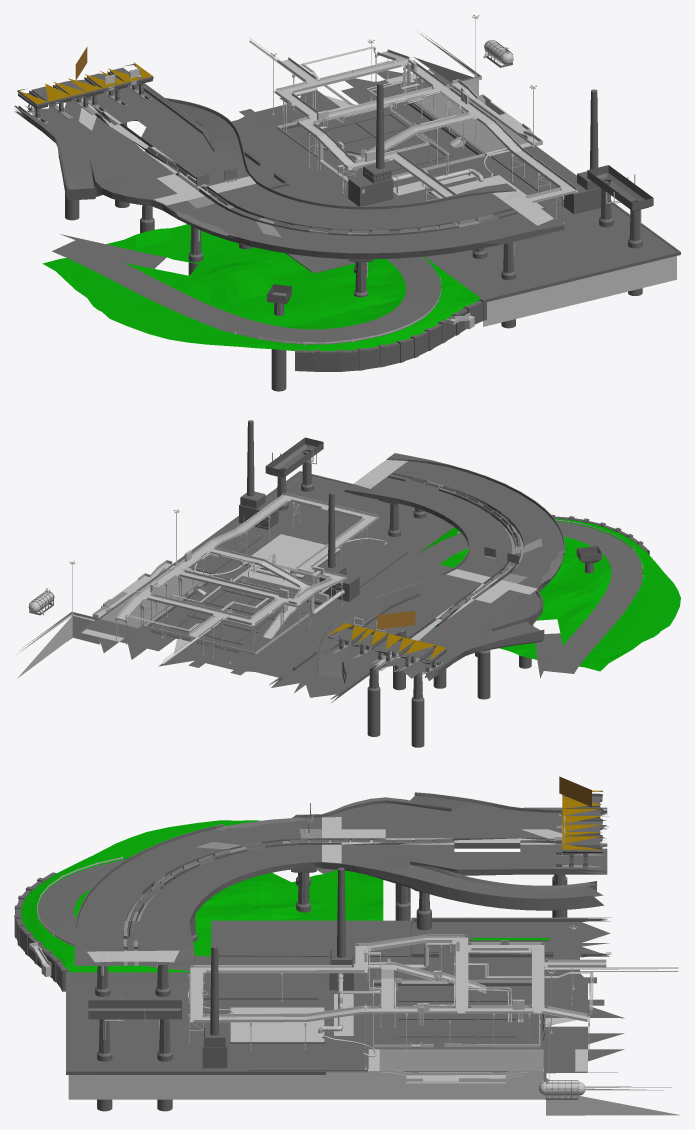
Rendered from bronx_w2_4.FBX.
3 views of the same model, one above another, from view 1: azimuth 30°, elevation 25°; view 2: azimuth 150°, elevation 25°; view 3: azimuth 270°, elevation 25° (orthographic). The views are drawn at different scales.
Parts seen in each view (by area): view 1: unnamed, null; view 2: unnamed, null; view 3: unnamed, null.
Part boxes in pixels (x1,y1,x2,y2): unnamed: [14, 14, 680, 391]; null: [390, 85, 576, 191]; unnamed: [17, 420, 680, 747]; null: [121, 509, 301, 626]; unnamed: [14, 776, 680, 1115]; null: [219, 976, 501, 1099].
Bounding box in the file's own units: 202 × 64.46 × 201.
